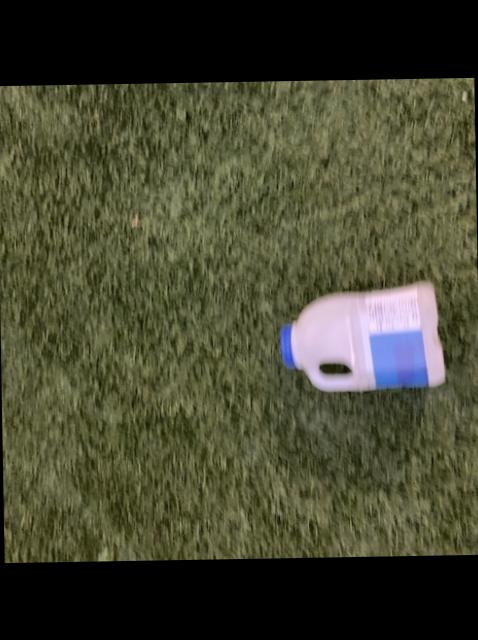plastic: (280, 281, 442, 388)
